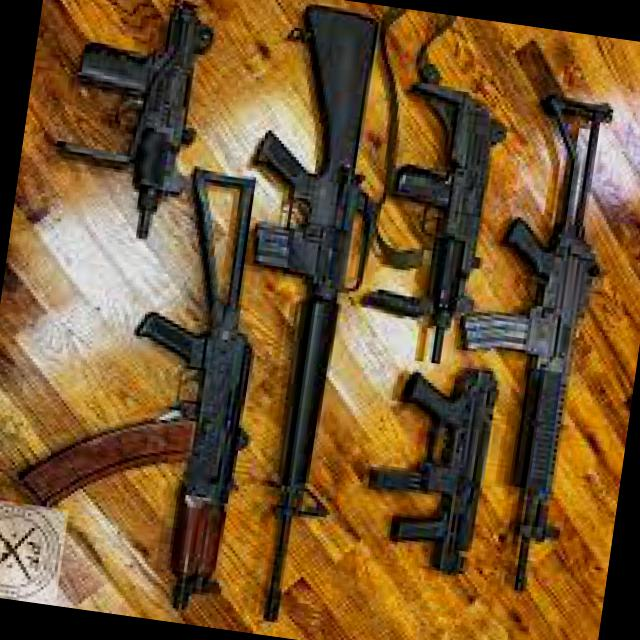long weapon: (222, 0, 404, 606), (431, 84, 639, 608), (118, 148, 306, 622), (350, 66, 522, 372), (55, 0, 224, 231), (375, 368, 519, 610)
